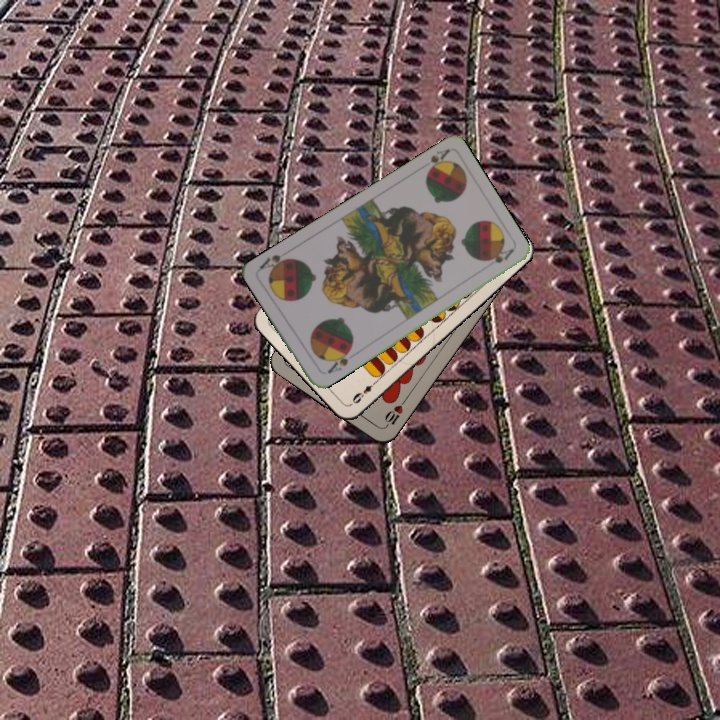E9: (347, 376, 380, 407)
H10: (380, 395, 409, 430)
SA: (422, 145, 452, 177), (323, 345, 353, 376)
